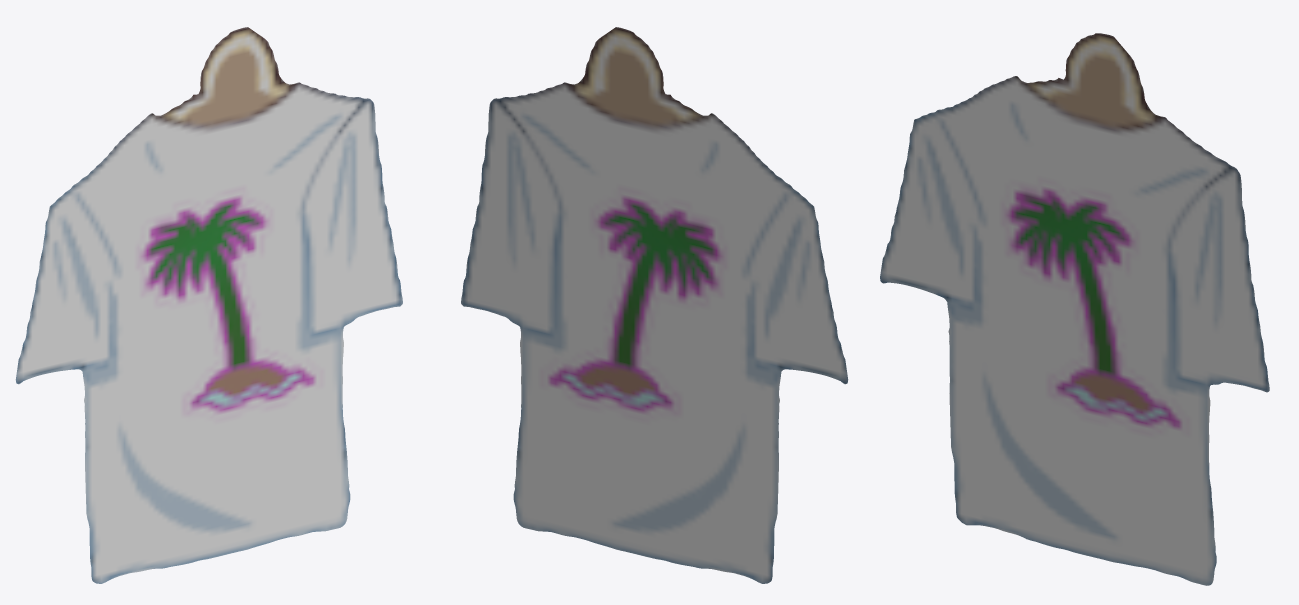
The model's file is giftgoods010.fbx.
The picture shows the model from 3 angles, left to right: view 1: azimuth 30°, elevation 25°; view 2: azimuth 150°, elevation 25°; view 3: azimuth 330°, elevation 25°; orthographic projection.
Parts seen in each view (by area): view 1: giftgoods010; view 2: giftgoods010; view 3: giftgoods010.
Boxes of the visible parts, x1=… form: giftgoods010: x1=15, y1=27, x2=402, y2=583; giftgoods010: x1=461, y1=27, x2=848, y2=583; giftgoods010: x1=880, y1=33, x2=1269, y2=585.
Size of the model in its own units: 0.6597 by 0.8481 by 0.
